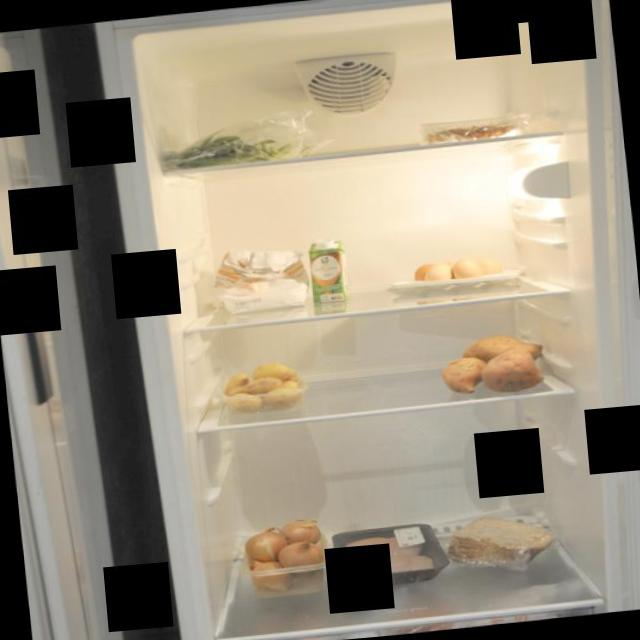Carne pollo: (328, 518, 452, 591)
Cebolla: (237, 516, 332, 600)
Gambas/Langostinos: (422, 117, 528, 144)
Huevos: (412, 253, 508, 291)
Patata: (216, 356, 312, 416)
